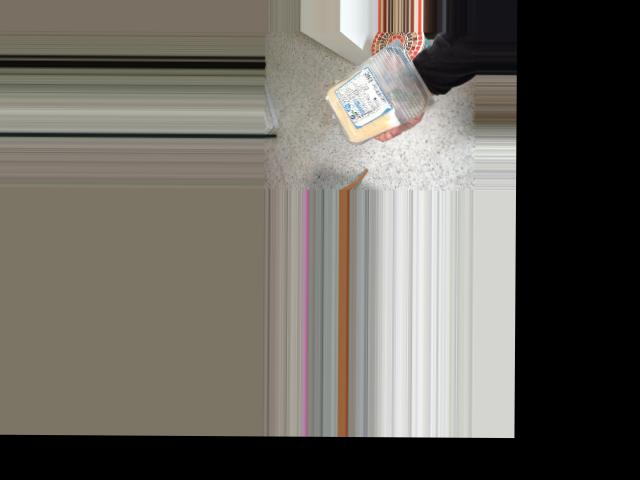cheese: (321, 48, 424, 137)
